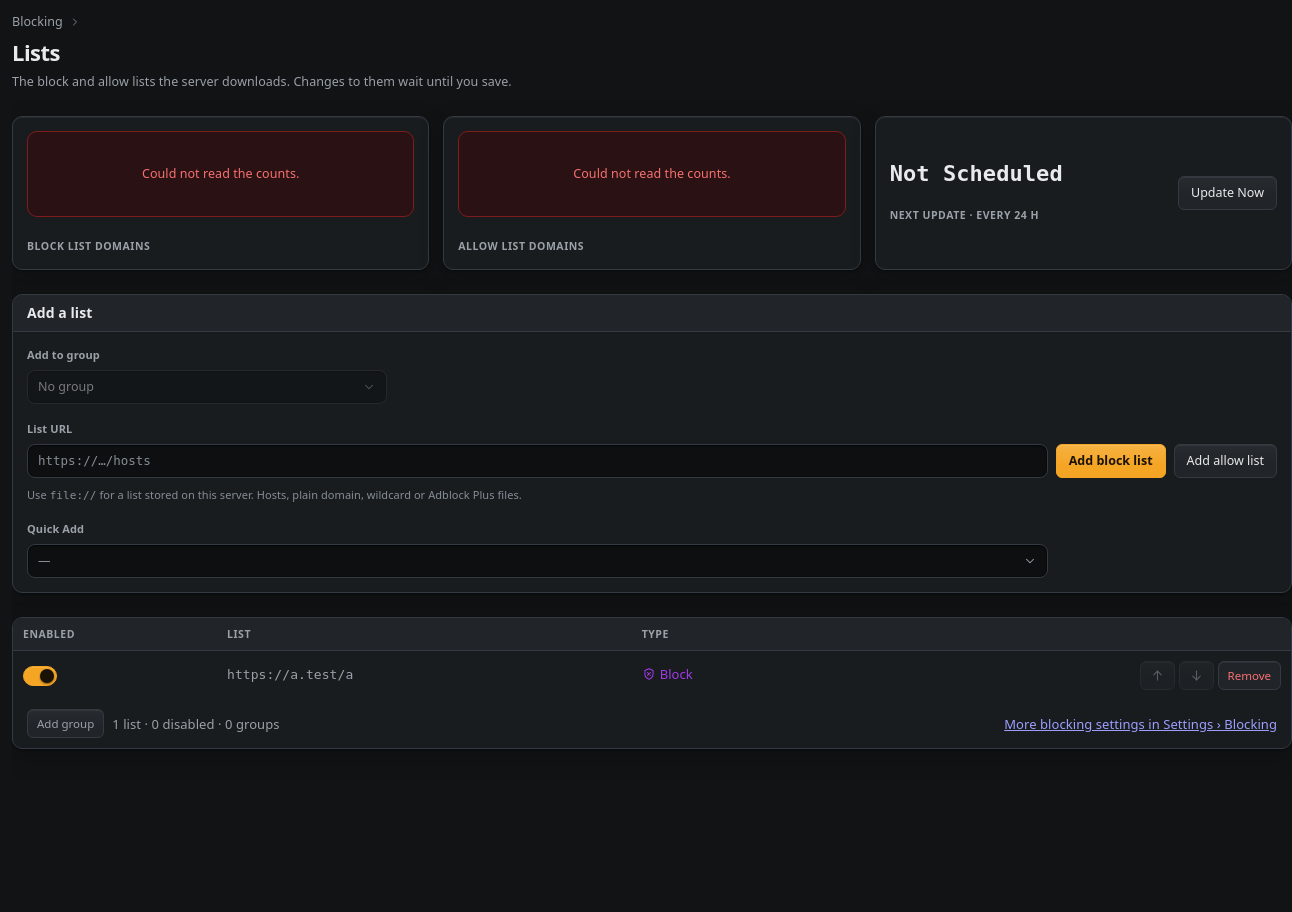
Test: Lists groups › refuses a comma, a URL and an empty name under the field, and saves nothing
Step 1. Click the button "Add group" → (66, 724), box [27, 709, 104, 738]
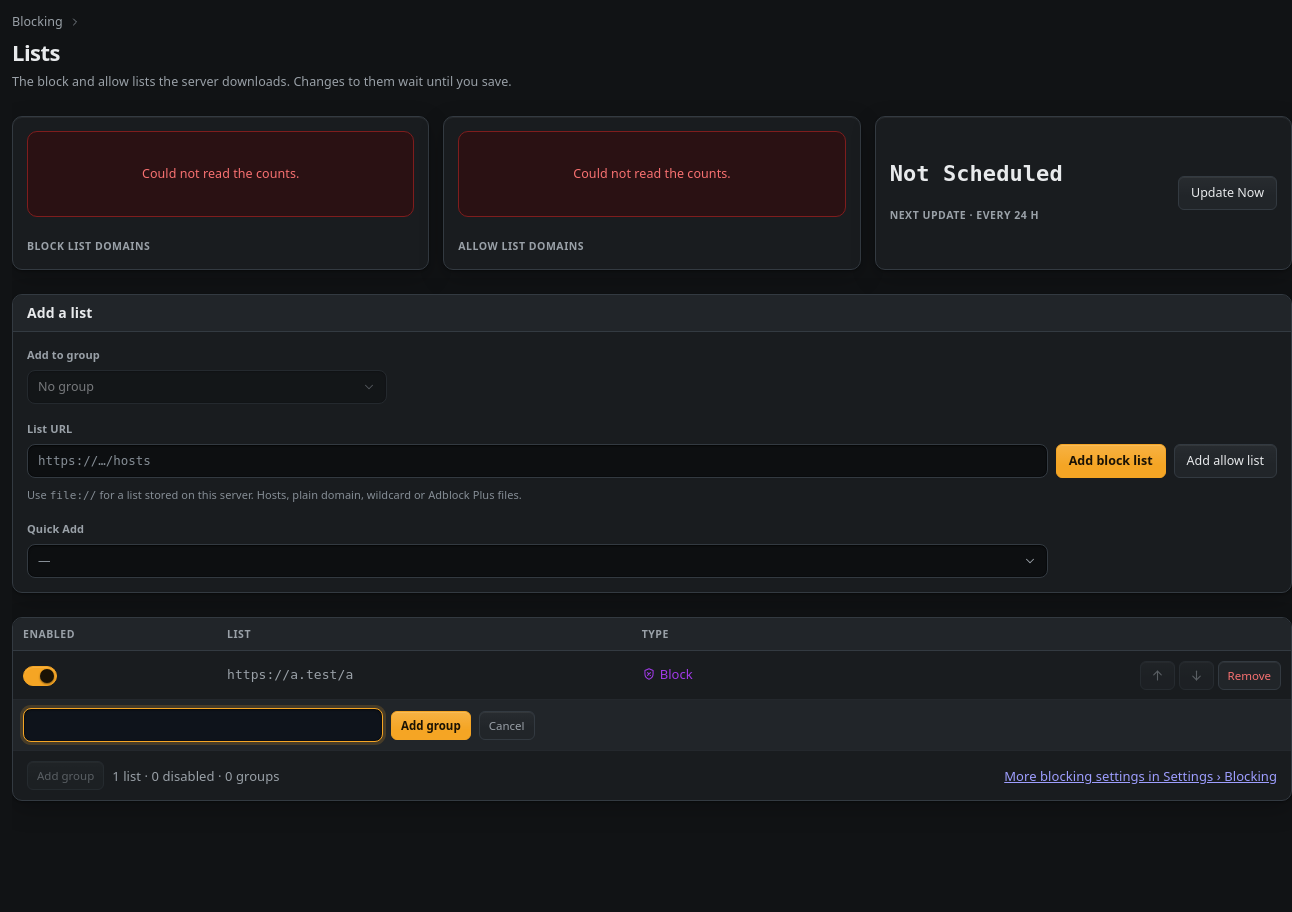
Step 2. Click the button "Add group" below "https://" → (431, 725), box [391, 711, 471, 740]
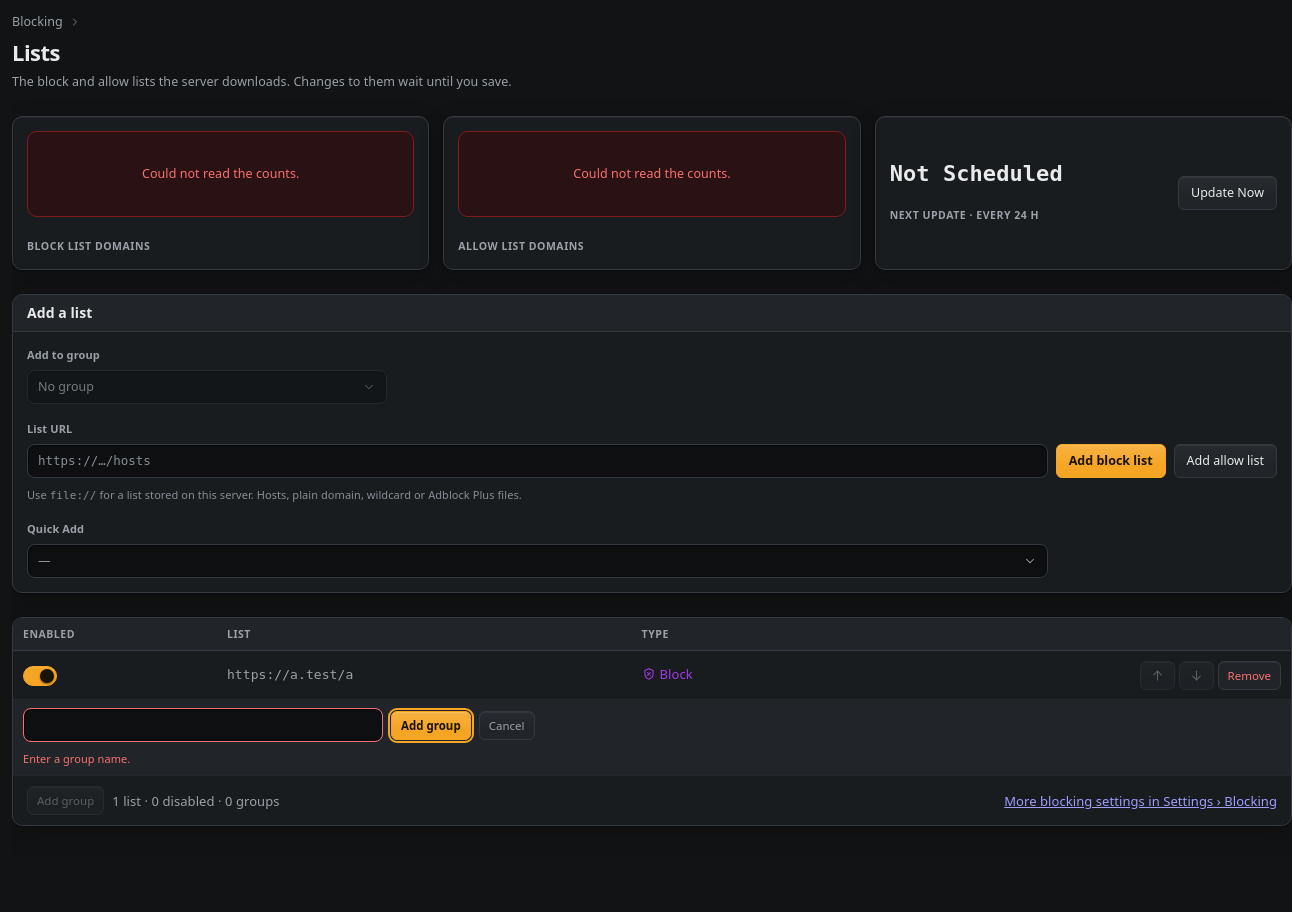
expect the text "Enter a group name." is shown: met, box [23, 751, 130, 766]
Step 3. Type "Ads, trackers" into the field named "Group name" → (203, 725), box [23, 708, 383, 742]
Then press Enter
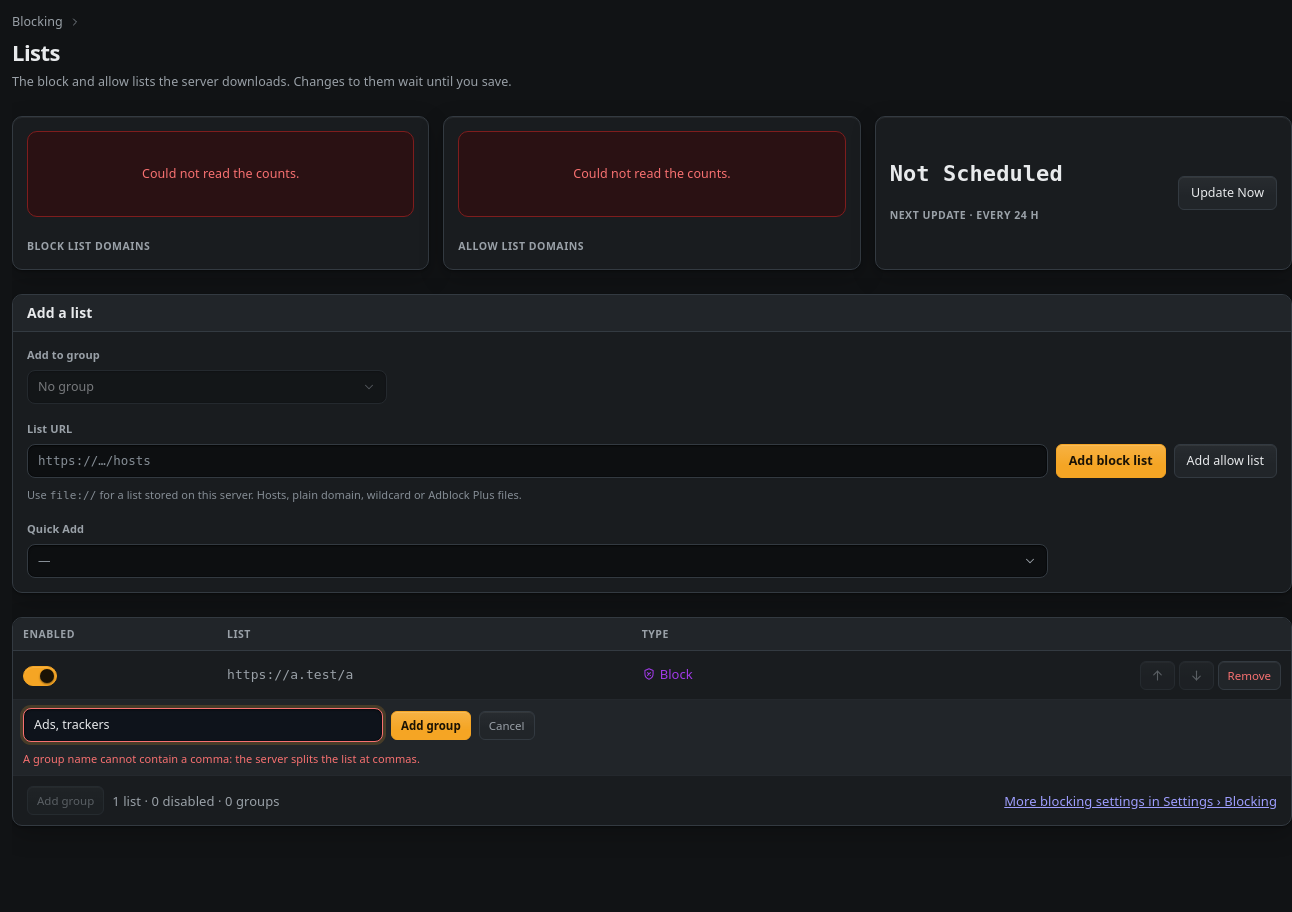
Step 4. Replace the text in the field named "Group name" with "https://b.test/b" → (203, 725), box [23, 708, 383, 742]
Then press Enter
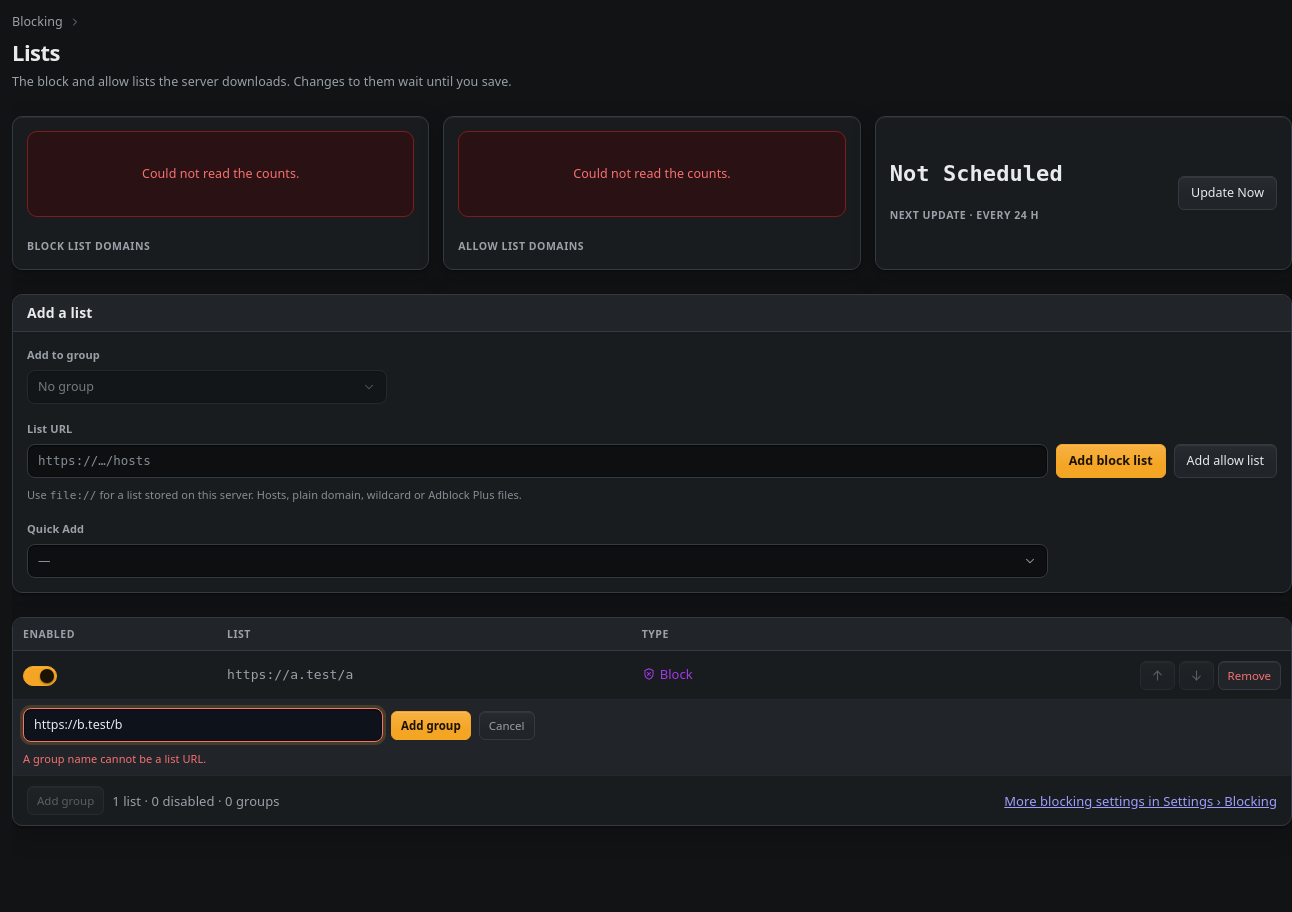
Step 5. Press Escape
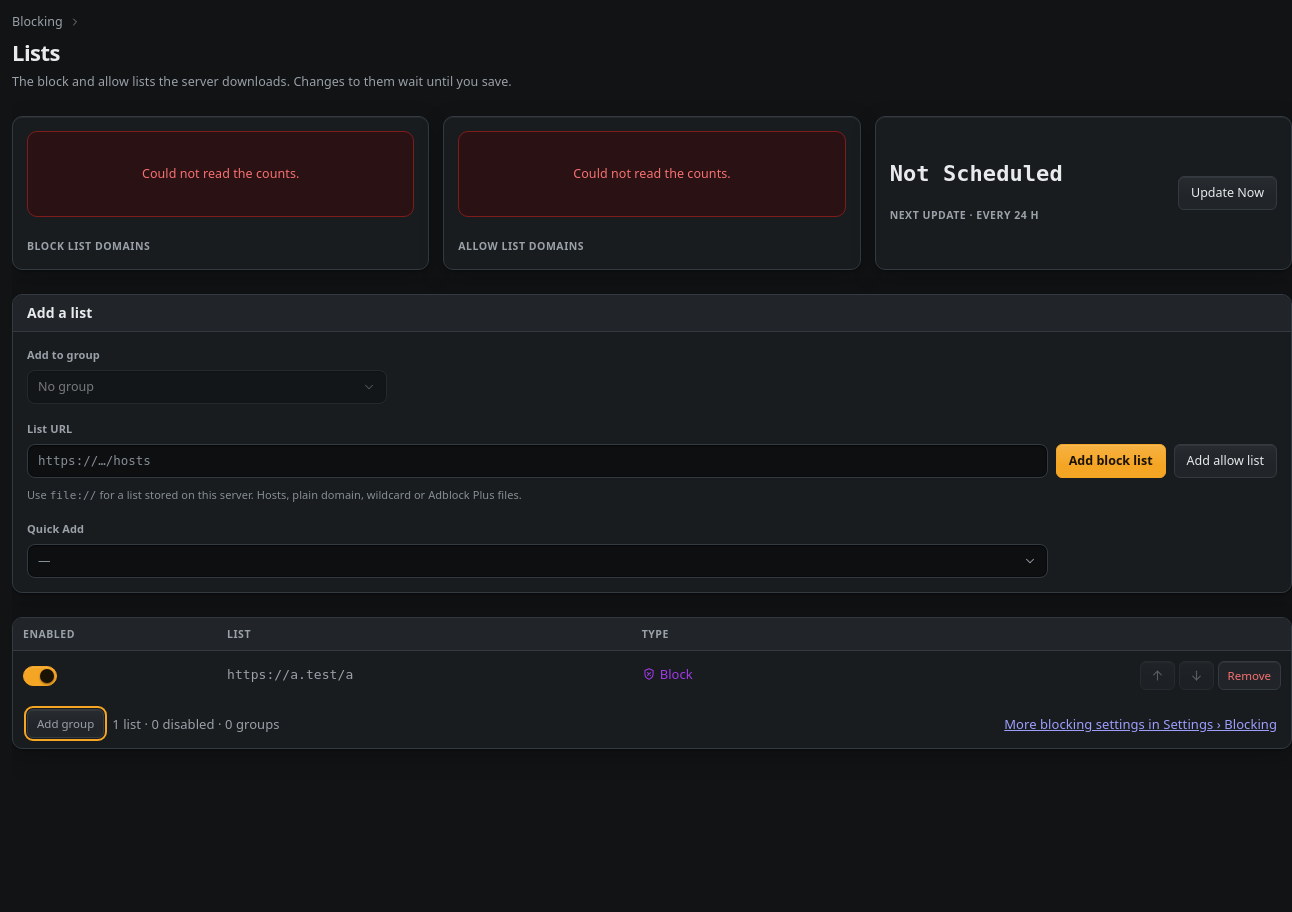
expect the text labelled "group name" is gone: met
